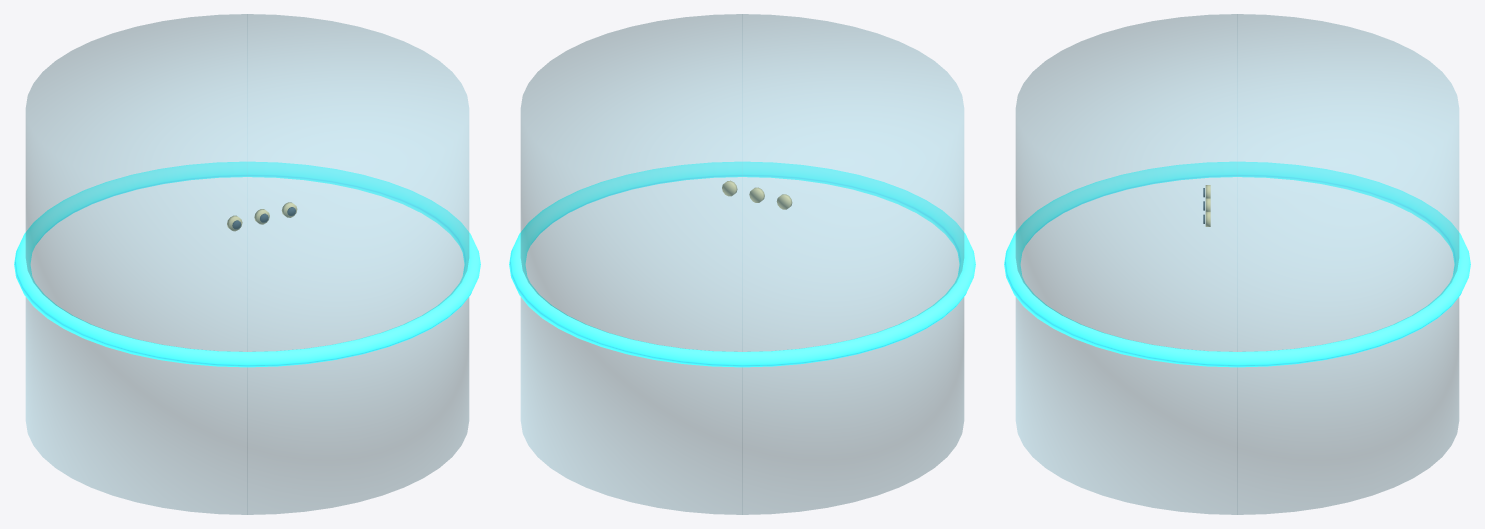
The model's file is 08_L93_PristineSampleVaultInspectionGlass.glb.
3 renders of one model, left to right at view 1: azimuth 30°, elevation 25°; view 2: azimuth 150°, elevation 25°; view 3: azimuth 270°, elevation 25°, orthographic.
Parts seen in each view (by area): view 1: L92_PristineSampleVaultInspec_Part_0000, L92_PristineSampleVaultInspec_Part_0001; view 2: L92_PristineSampleVaultInspec_Part_0000, L92_PristineSampleVaultInspec_Part_0001; view 3: L92_PristineSampleVaultInspec_Part_0000, L92_PristineSampleVaultInspec_Part_0001.
Boxes of the visible parts, box(x1,y1,x2,y2) form: L92_PristineSampleVaultInspec_Part_0000: box(26, 14, 468, 514); L92_PristineSampleVaultInspec_Part_0001: box(14, 161, 480, 367); L92_PristineSampleVaultInspec_Part_0000: box(521, 14, 963, 514); L92_PristineSampleVaultInspec_Part_0001: box(509, 161, 975, 367); L92_PristineSampleVaultInspec_Part_0000: box(1016, 14, 1458, 514); L92_PristineSampleVaultInspec_Part_0001: box(1004, 161, 1470, 367).
Bounding box in the file's own units: 3.98 × 2.95 × 3.98.
